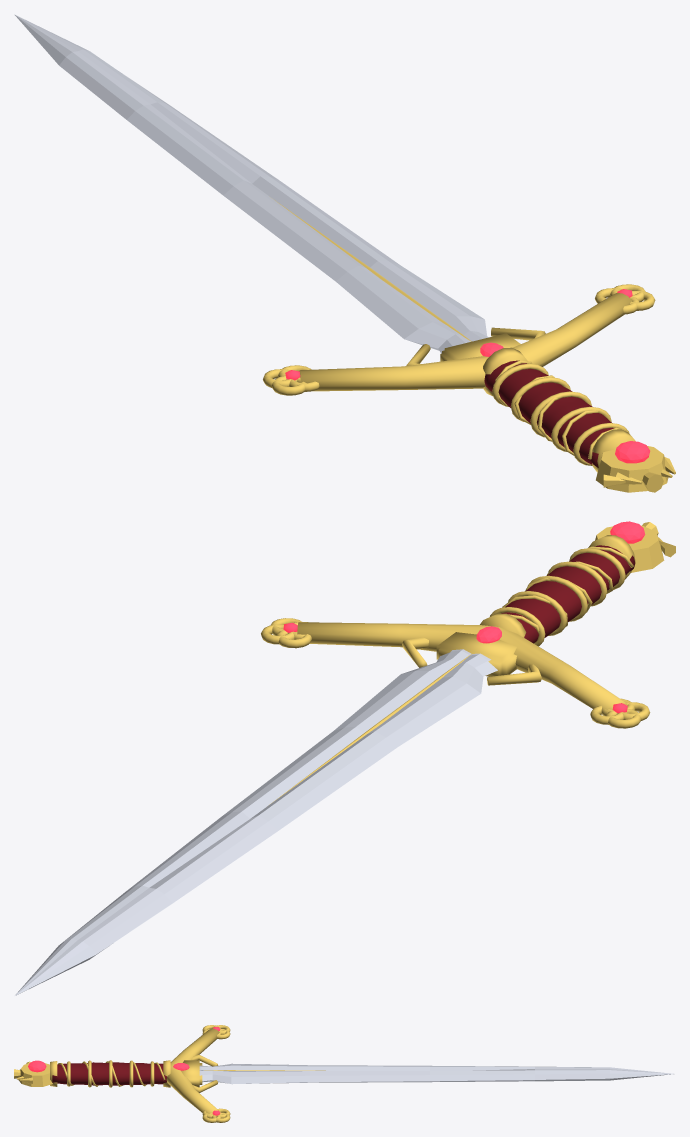
The model's file is SWORD_GILDED.glb.
The picture shows the model from 3 angles, top to bottom: view 1: azimuth 30°, elevation 25°; view 2: azimuth 150°, elevation 25°; view 3: azimuth 270°, elevation 25°; orthographic projection. The views are drawn at different scales.
Parts seen in each view (by area): view 1: ClaymoreBlade, VGuard, Grip, PommelDisc, GripWireWrap, RoyalRicassoCollar; view 2: ClaymoreBlade, VGuard, Grip, RoyalRicassoCollar, PommelDisc, GripWireWrap; view 3: ClaymoreBlade, Grip, VGuard, PommelDisc, RoyalRicassoCollar, GripWireWrap, PommelGem.
Boxes of the visible parts, box(x1,y1,x2,y2) form: ClaymoreBlade: box(14, 14, 488, 353); VGuard: box(299, 293, 632, 391); Grip: box(484, 360, 614, 467); PommelDisc: box(596, 446, 669, 492); GripWireWrap: box(495, 360, 627, 459); RoyalRicassoCollar: box(440, 333, 520, 361); ClaymoreBlade: box(15, 649, 497, 995); VGuard: box(297, 622, 627, 709); Grip: box(501, 545, 635, 643); RoyalRicassoCollar: box(436, 632, 516, 676); PommelDisc: box(595, 525, 664, 572); GripWireWrap: box(502, 546, 633, 633); ClaymoreBlade: box(199, 1063, 673, 1084); Grip: box(52, 1062, 166, 1085); VGuard: box(166, 1028, 219, 1113); PommelDisc: box(18, 1063, 52, 1086); RoyalRicassoCollar: box(181, 1060, 202, 1087); GripWireWrap: box(58, 1061, 165, 1086); PommelGem: box(28, 1060, 46, 1072).
Size of the model in its own units: 0.3014 by 0.037 by 0.883.
